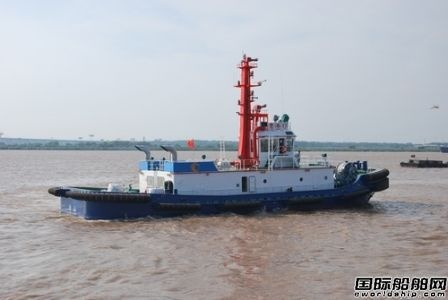otherboat: (42, 48, 394, 224)
